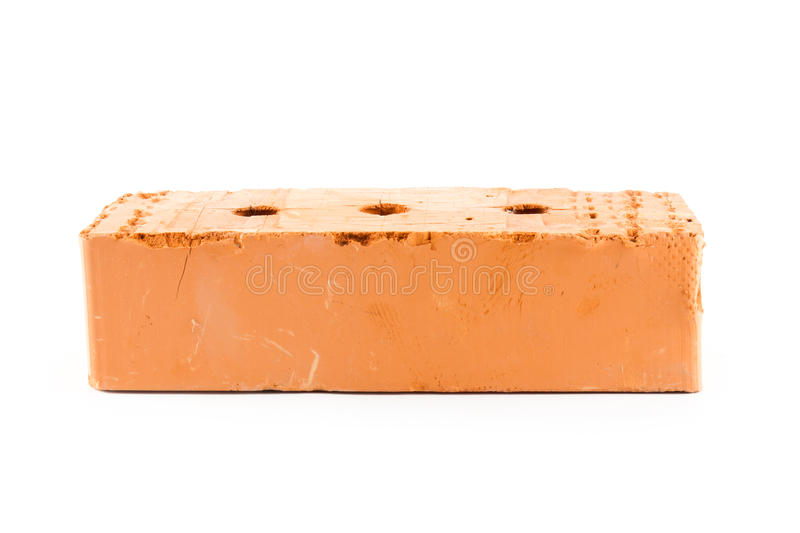brick: (83, 232, 703, 391)
